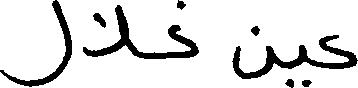X: (0, 0, 71, 87), (86, 0, 127, 61), (234, 21, 272, 83), (170, 0, 196, 62), (321, 30, 357, 73), (300, 40, 304, 87)
